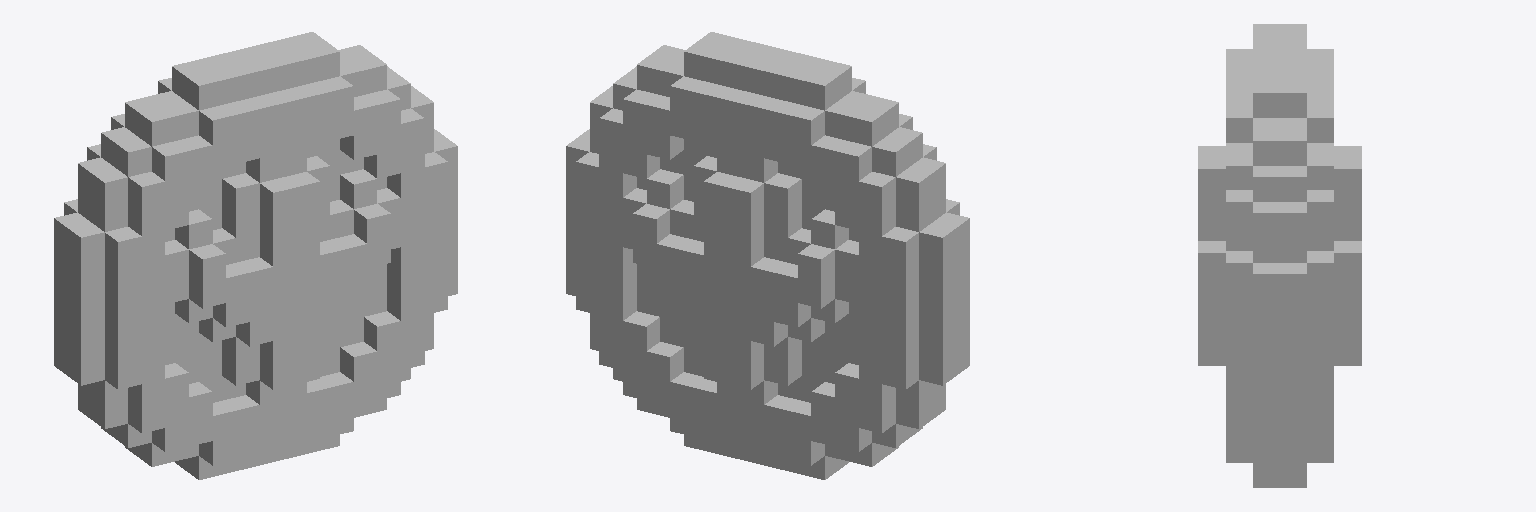
Rendered from Coin.obj.
3 renders of one model, left to right at view 1: azimuth 30°, elevation 25°; view 2: azimuth 150°, elevation 25°; view 3: azimuth 270°, elevation 25°, orthographic.
Parts seen in each view (by area): view 1: object 1; view 2: object 1; view 3: object 1.
Part boxes in pixels (x1,y1,x2,y2): object 1: (54,32,457,479); object 1: (566,32,969,479); object 1: (1198,24,1361,487).
Bounding box in the file's own units: 1.6 × 1.6 × 0.6.